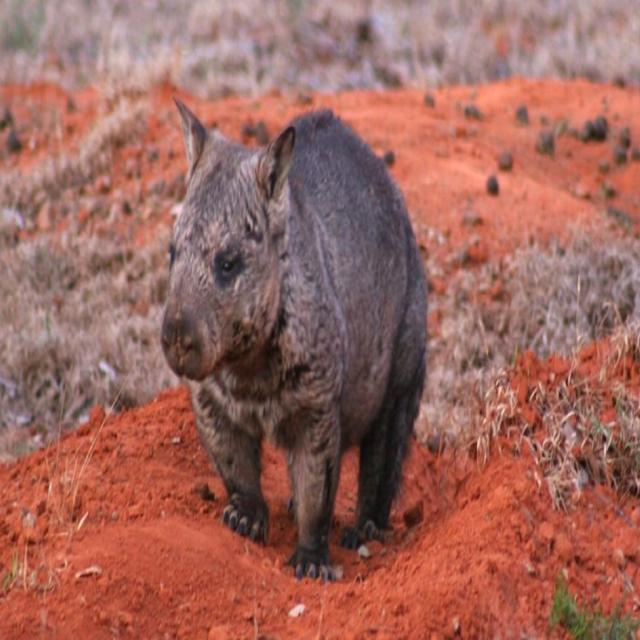wombats: (160, 99, 426, 578)
